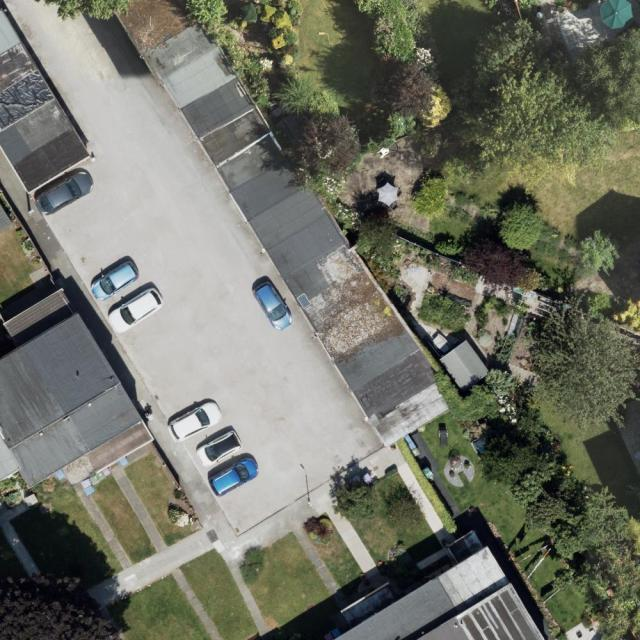roof: (100, 0, 450, 451), (0, 286, 155, 489), (331, 545, 547, 640)
